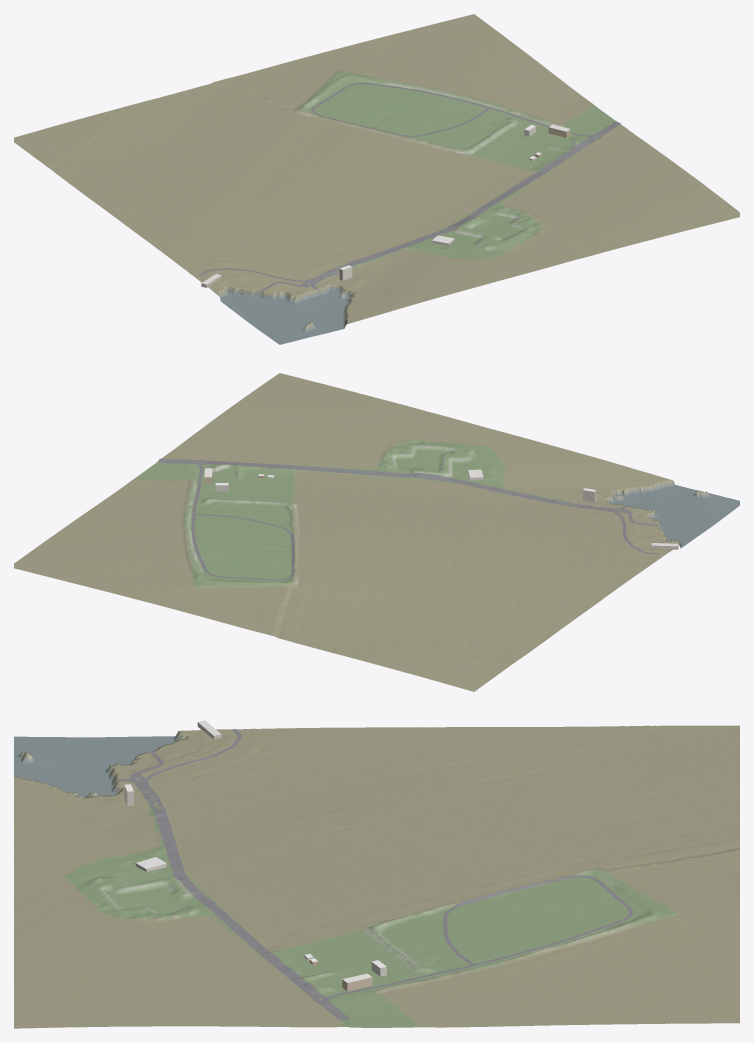
3 renders of one model, top to bottom at view 1: azimuth 30°, elevation 25°; view 2: azimuth 150°, elevation 25°; view 3: azimuth 270°, elevation 25°, orthographic. The views are drawn at different scales.
Parts seen in each view (by area): view 1: prim0, prim2, prim1; view 2: prim0, prim2, prim1; view 3: prim0, prim2, prim1.
Part boxes in pixels (left/top/right/bottom): prim0: left=14, top=14, right=739, bottom=344; prim2: left=199, top=83, right=620, bottom=292; prim1: left=201, top=124, right=570, bottom=287; prim0: left=14, top=373, right=739, bottom=691; prim2: left=159, top=458, right=658, bottom=580; prim1: left=204, top=468, right=678, bottom=549; prim0: left=14, top=725, right=739, bottom=1028; prim2: left=117, top=729, right=633, bottom=1020; prim1: left=124, top=720, right=386, bottom=991.
Bounding box in the file's own units: 522 × 28.02 × 512.
